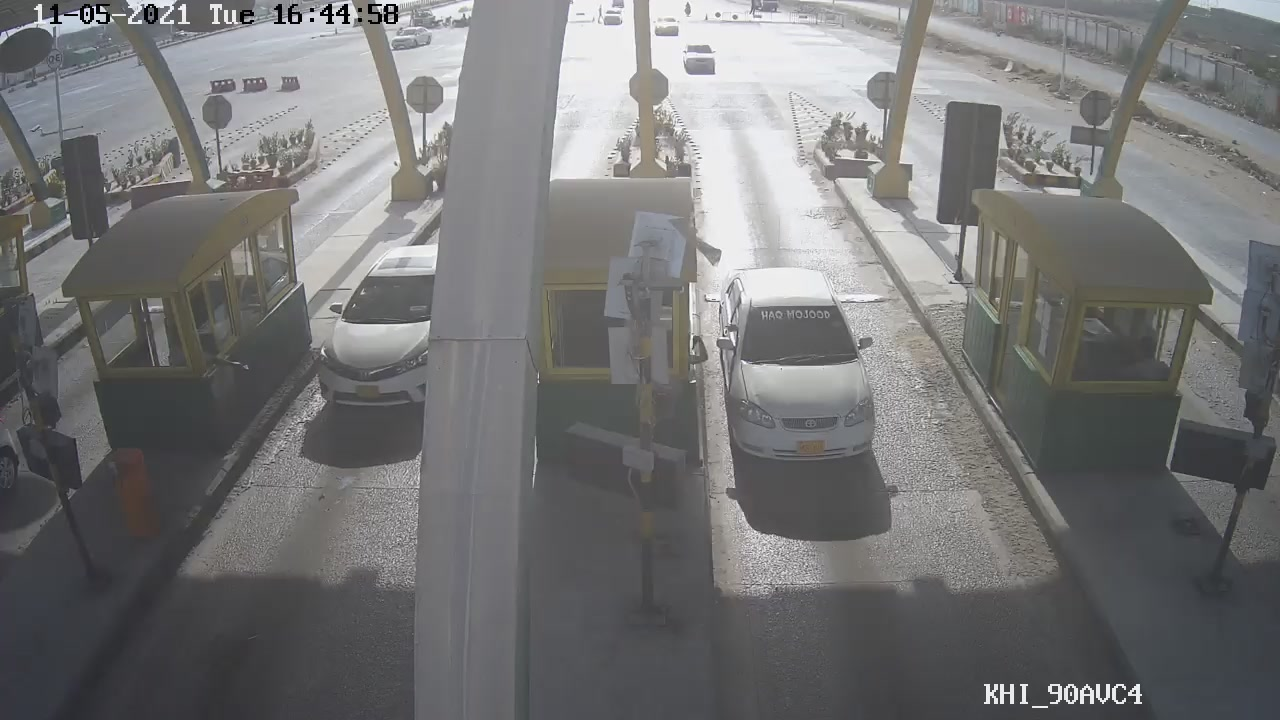F1: (707, 264, 883, 474)
